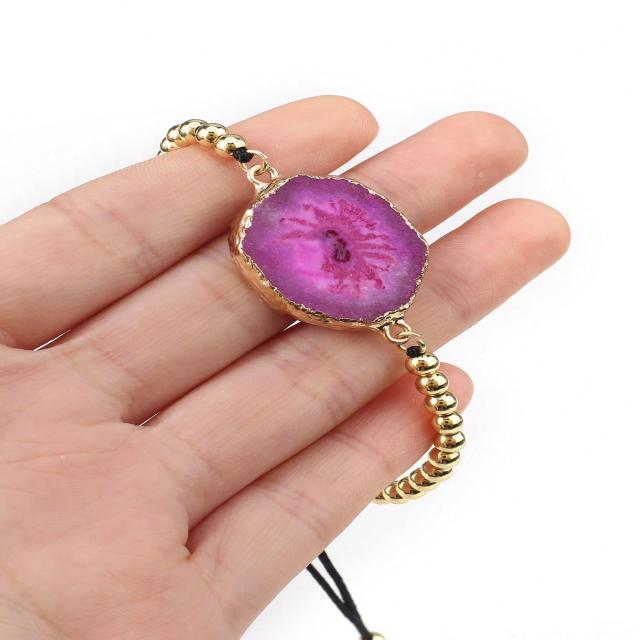bracelet: (91, 61, 516, 638)
